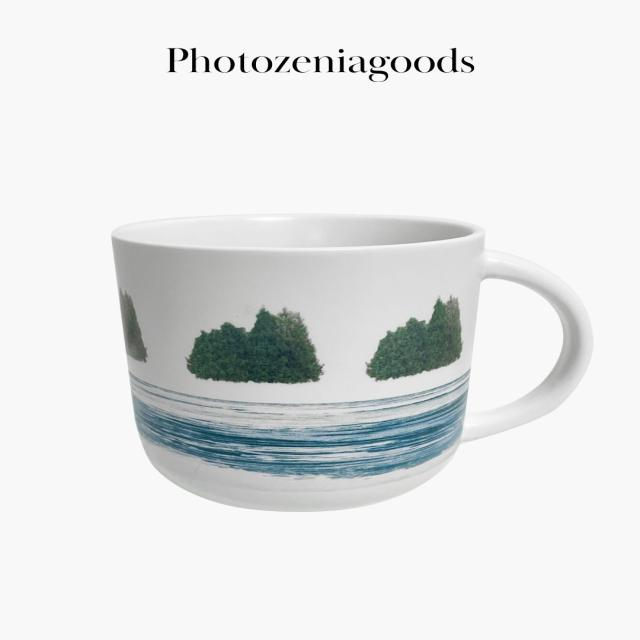glass cup: (109, 214, 593, 513)
